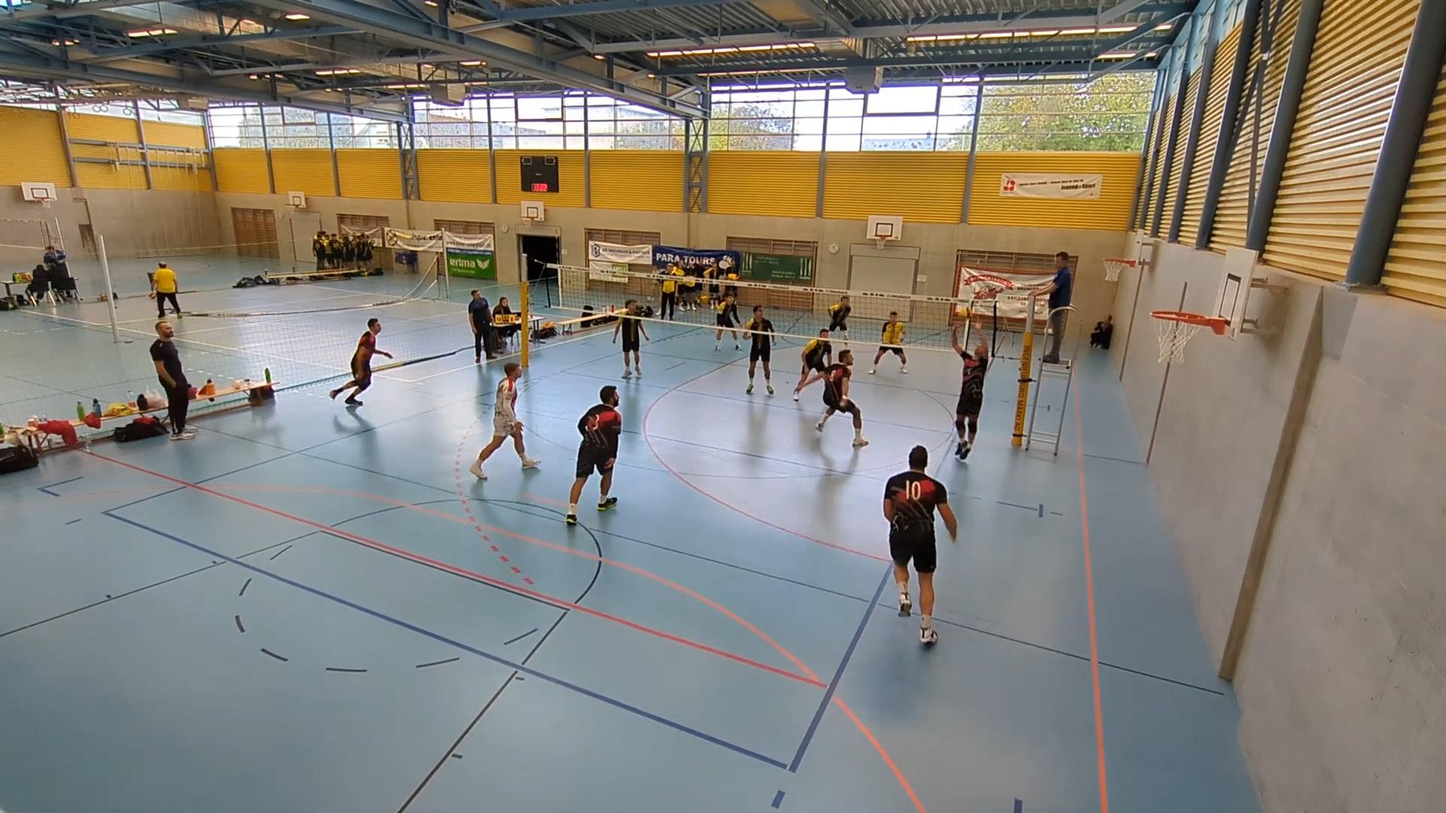Player: (883, 446, 956, 645), (469, 361, 539, 479), (566, 385, 621, 525), (331, 318, 392, 406), (816, 349, 868, 446), (743, 305, 776, 394), (613, 299, 647, 379), (793, 329, 831, 400), (868, 311, 907, 374), (715, 294, 740, 351), (828, 296, 851, 342)
Set: (947, 318, 993, 462)
ball: (954, 307, 976, 319)
